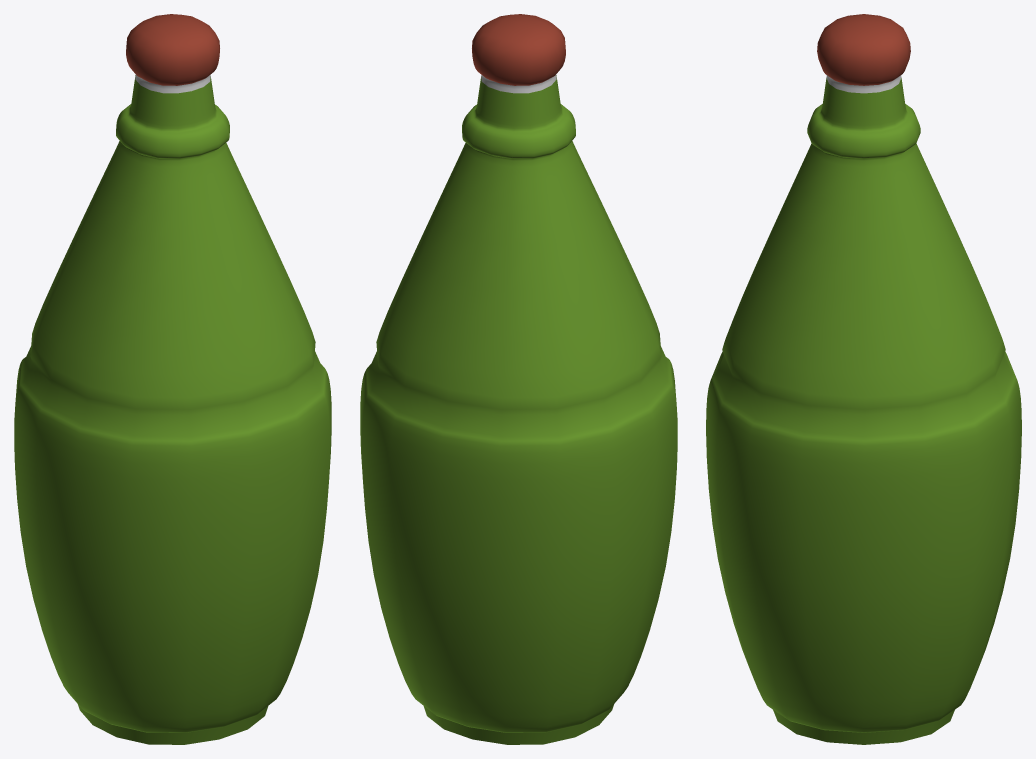
The model's file is PotionBottle_Style_04.fbx.
The picture shows the model from 3 angles, left to right: view 1: azimuth 30°, elevation 25°; view 2: azimuth 150°, elevation 25°; view 3: azimuth 270°, elevation 25°; orthographic projection.
Visible parts, largest first — view 1: SetA_PotionBottle_Style_04; view 2: SetA_PotionBottle_Style_04; view 3: SetA_PotionBottle_Style_04.
Part boxes in pixels (left/top/right/bottom): SetA_PotionBottle_Style_04: left=14, top=14, right=331, bottom=744; SetA_PotionBottle_Style_04: left=360, top=14, right=677, bottom=744; SetA_PotionBottle_Style_04: left=706, top=14, right=1021, bottom=744.
Size of the model in its own units: 0.0194 by 0.0465 by 0.0194.
